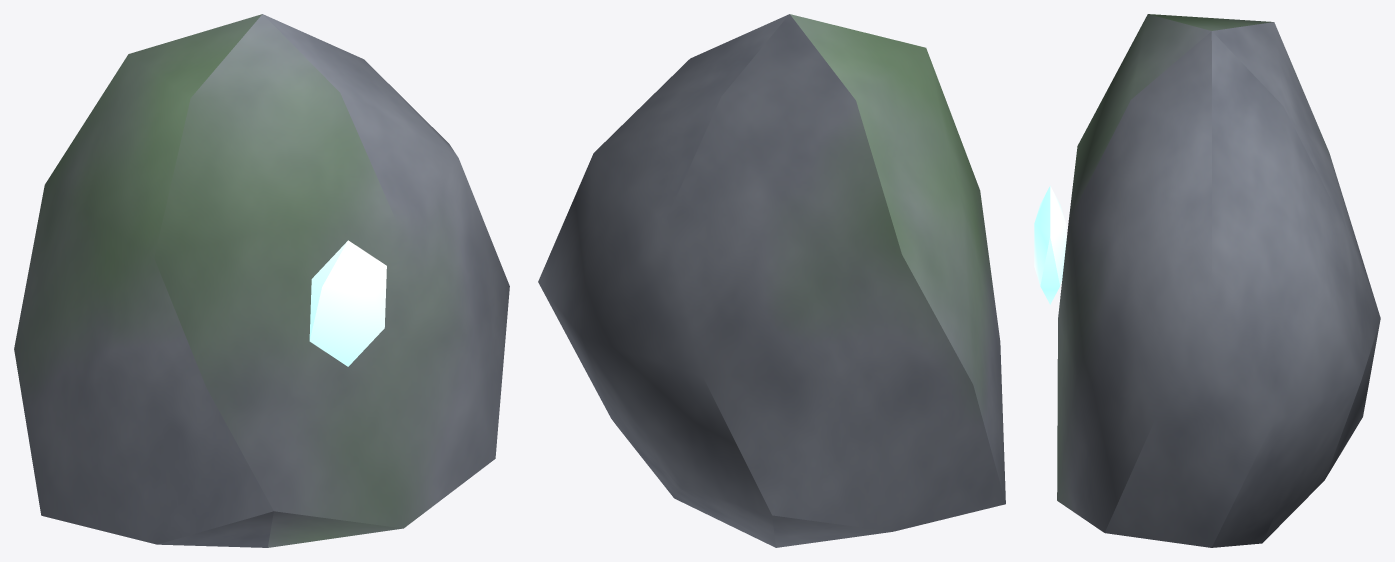
The model's file is ENV_Forest_BoundaryStone.fbx.
3 renders of one model, left to right at view 1: azimuth 30°, elevation 25°; view 2: azimuth 150°, elevation 25°; view 3: azimuth 270°, elevation 25°, orthographic. The views are drawn at different scales.
Parts seen in each view (by area): view 1: ENV_Forest_BoundaryStone; view 2: ENV_Forest_BoundaryStone; view 3: ENV_Forest_BoundaryStone.
Part boxes in pixels (x1,y1,x2,y2): ENV_Forest_BoundaryStone: [14, 14, 509, 547]; ENV_Forest_BoundaryStone: [538, 14, 1005, 547]; ENV_Forest_BoundaryStone: [1034, 14, 1380, 547].
Size of the model in its own units: 0.7224 by 0.771 by 0.5149.
Materials: 2 (1 with a texture image).
